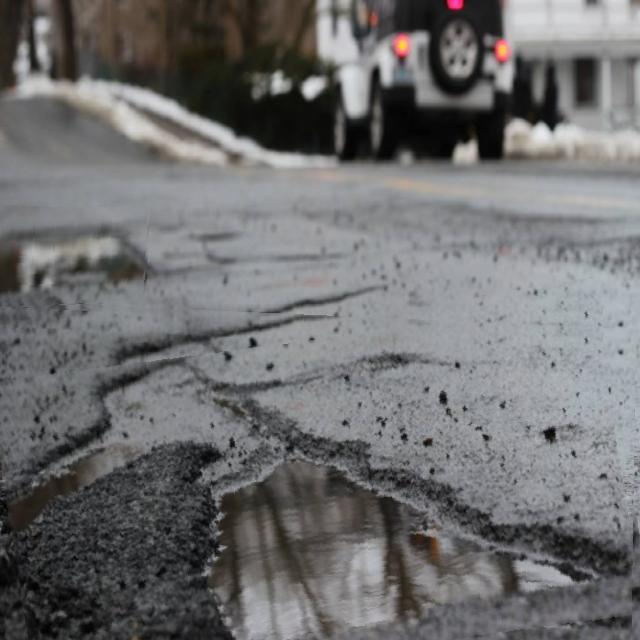Pothole: (0, 301, 636, 640), (0, 207, 148, 308)
